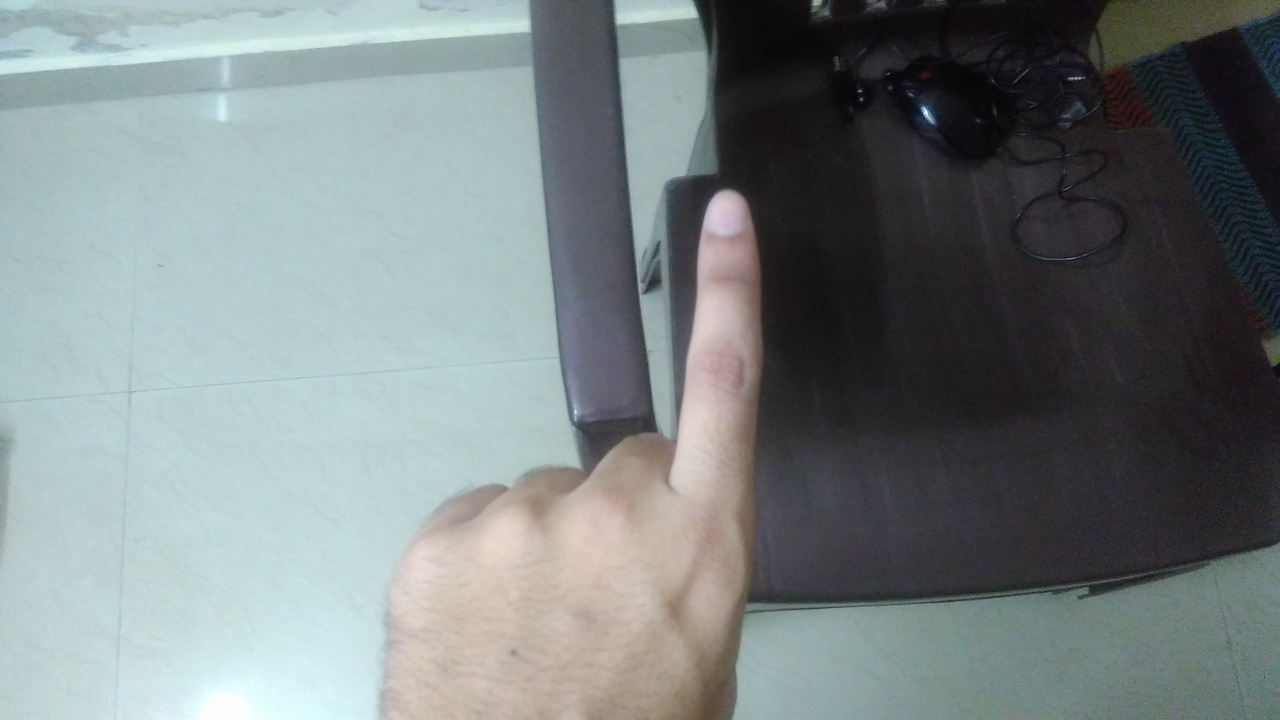fingertip: (698, 184, 758, 252)
